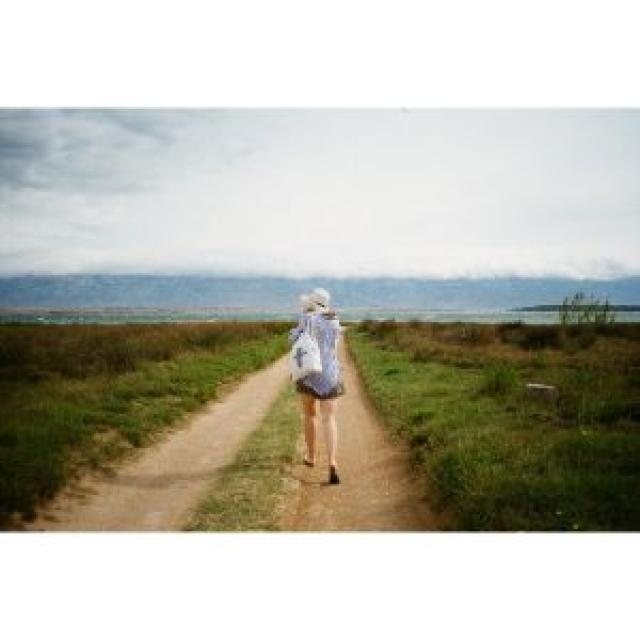nonfall: (282, 289, 379, 501)
